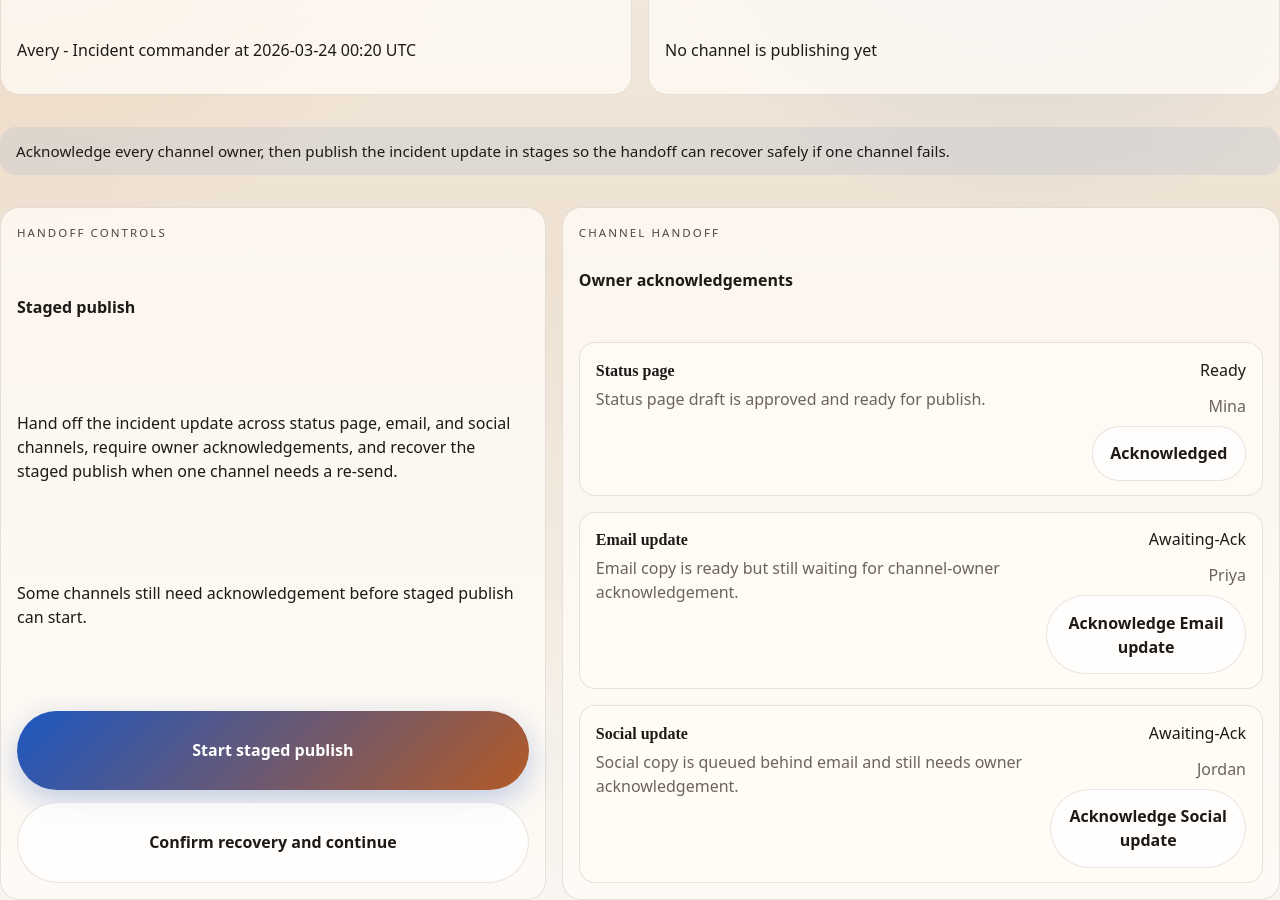
Test case: release communication handoff › enters recovery on the email stage and then completes after confirmation
The width and height of the screenshot is (1280, 900).
(page scrolled)
Click the button "Acknowledge Email update" at (1146,635), box [1046, 595, 1246, 674]
Wait 220 ms
(page scrolled)
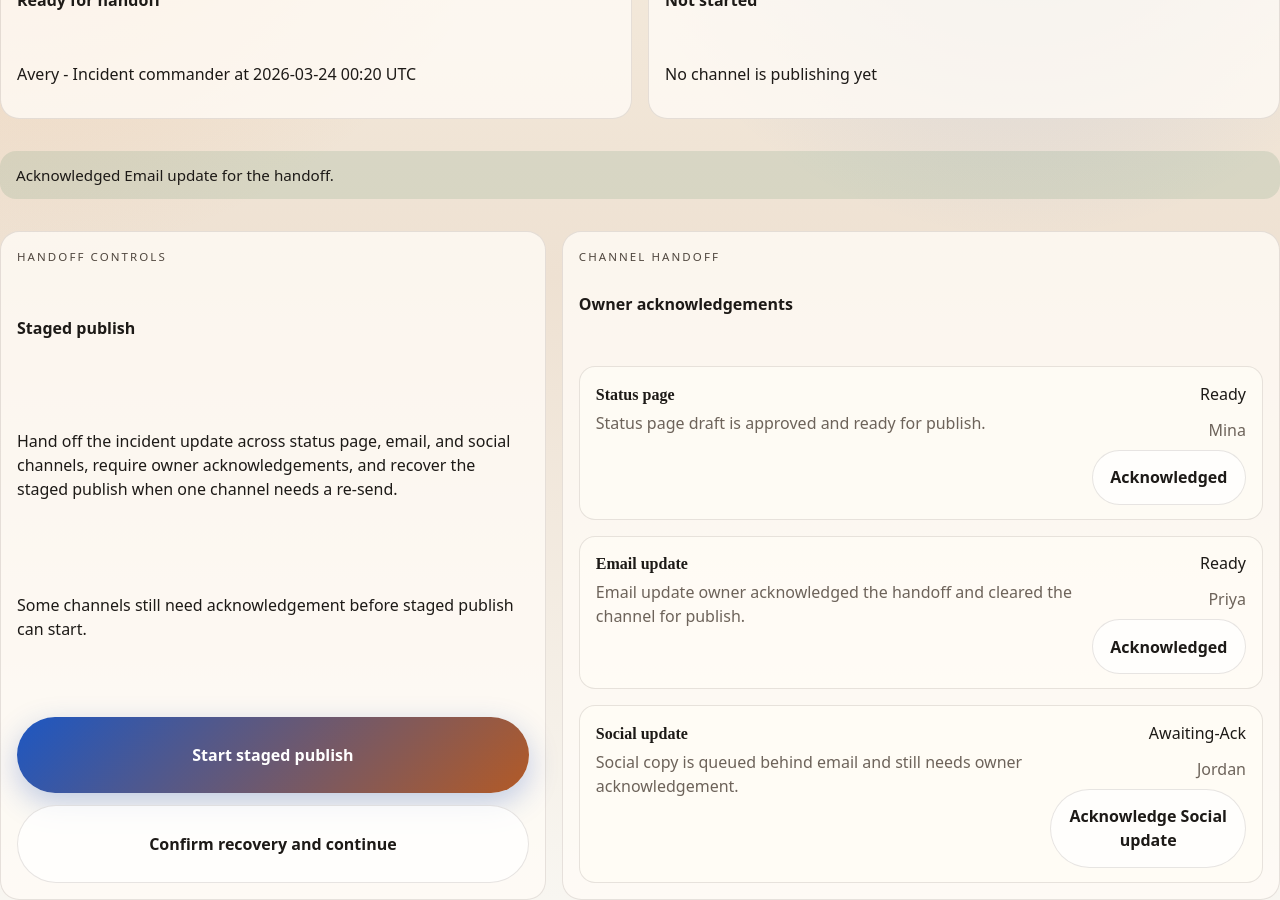
Click the button "Acknowledge Social update" at (1148,828), box [1050, 789, 1246, 868]
Wait 220 ms
(page scrolled)
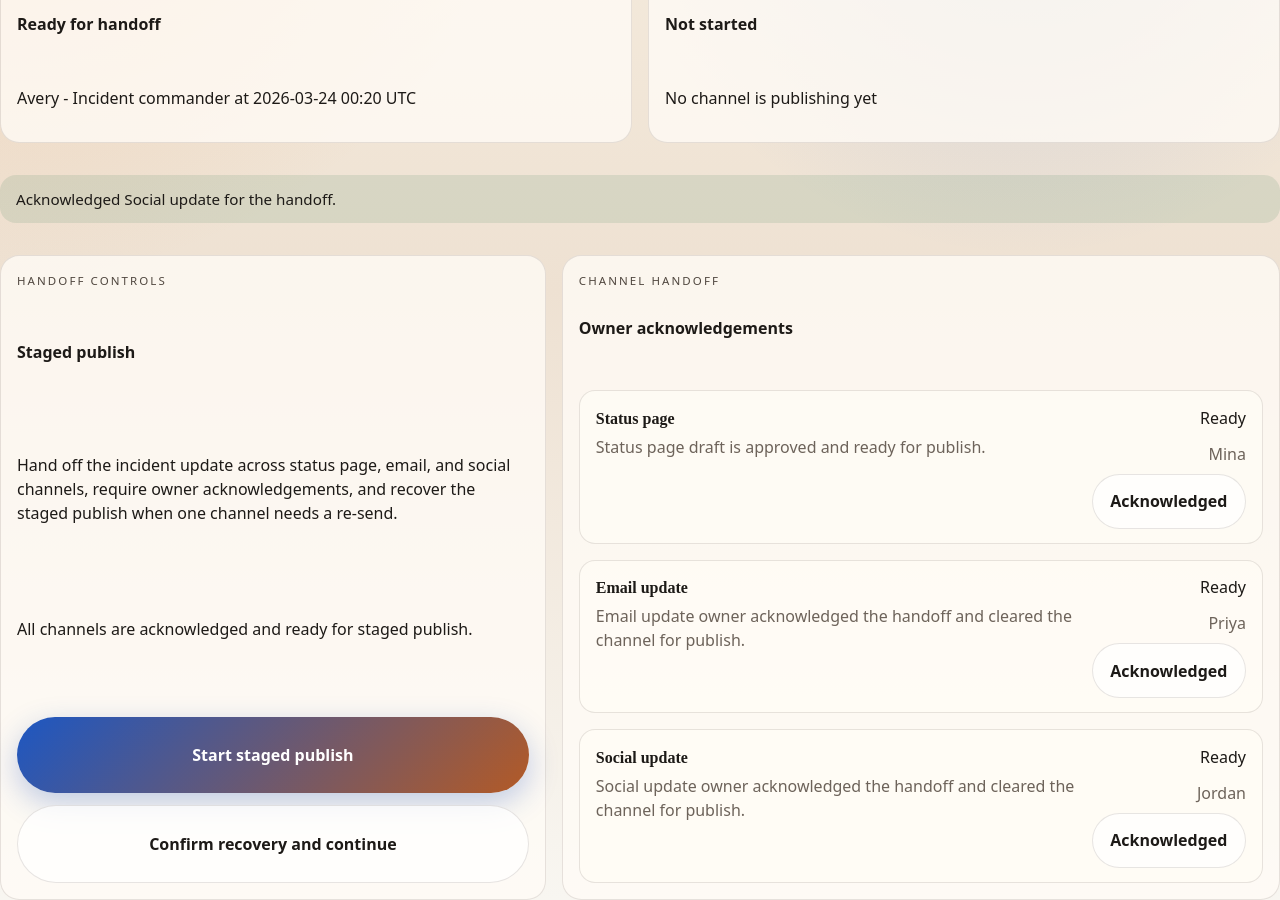
Click the button "Start staged publish" at (273,755), box [17, 717, 529, 793]
Wait 4940 ms
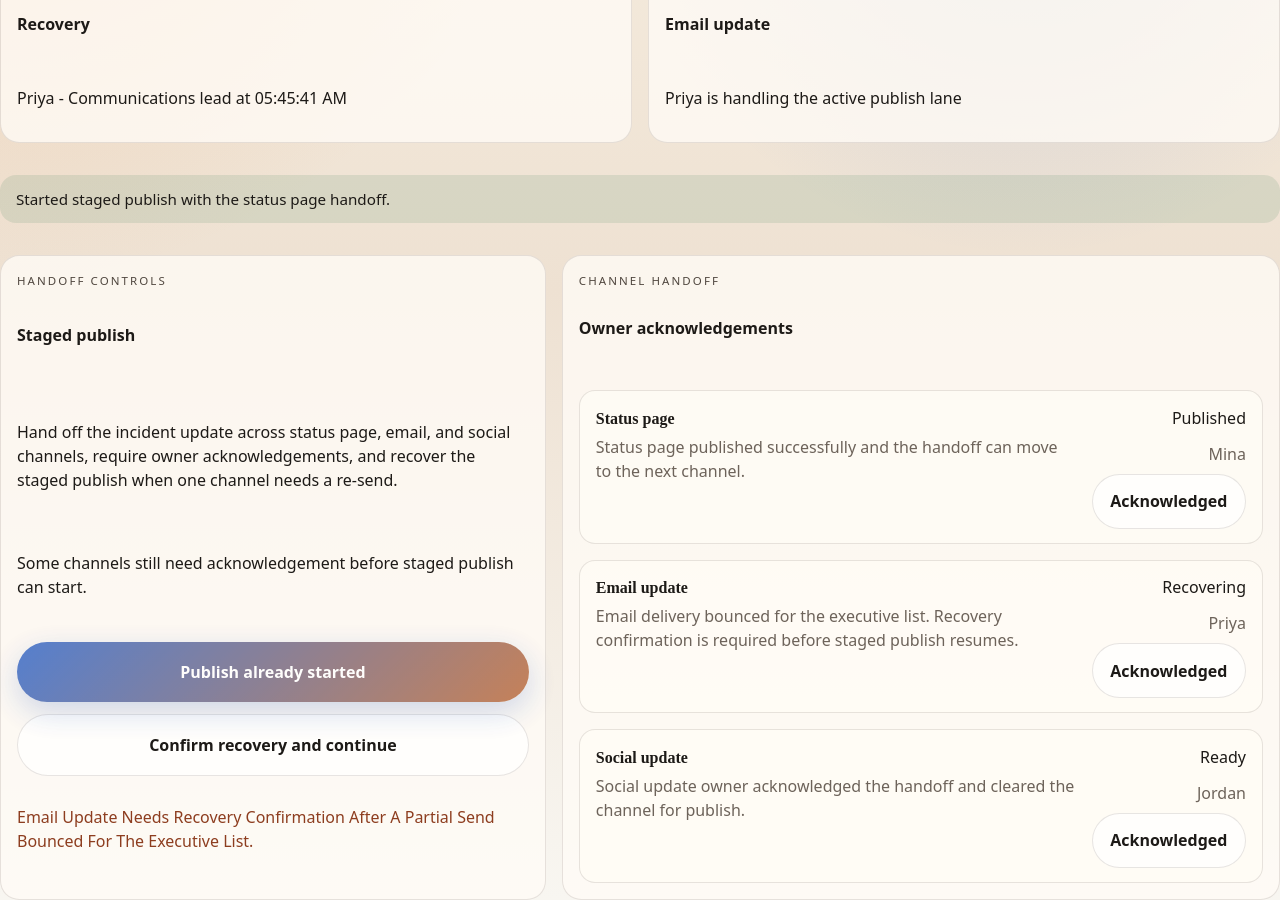
Expected: the text "Email update needs recovery confirmation after a partial send bounced for the executive list." is shown, [17, 806, 495, 852]
Click the button "Confirm recovery and continue" at (273,745), box [17, 714, 529, 776]
Wait 2580 ms
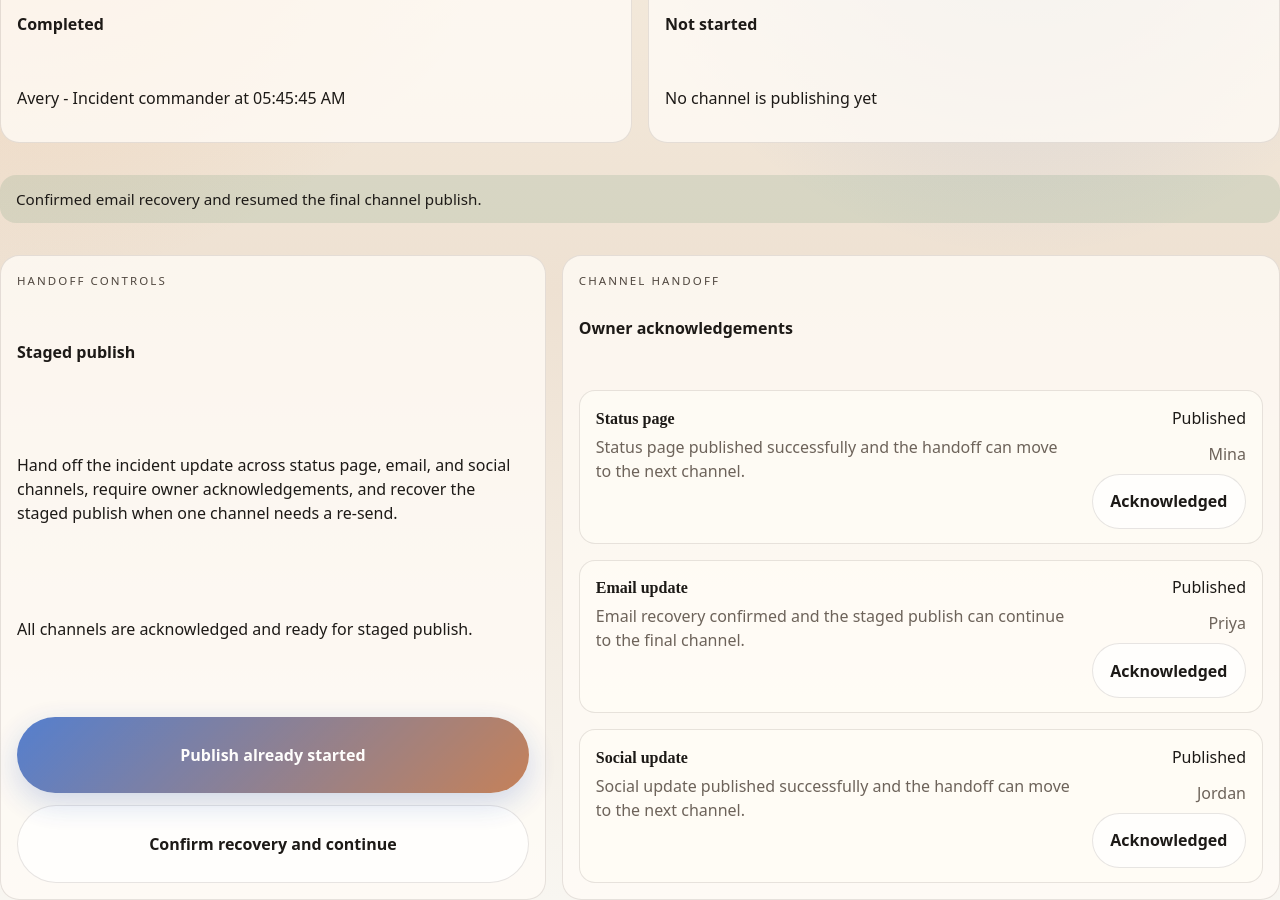
Expected: the text "Confirmed email recovery and resumed the final channel publish." is shown, [0, 175, 1279, 223]
Expected: the heading "Completed" is shown, [17, 13, 104, 35]
Expected: the text "Social update published successfully and the handoff can move to the next channel." is shown, [596, 775, 1070, 821]
